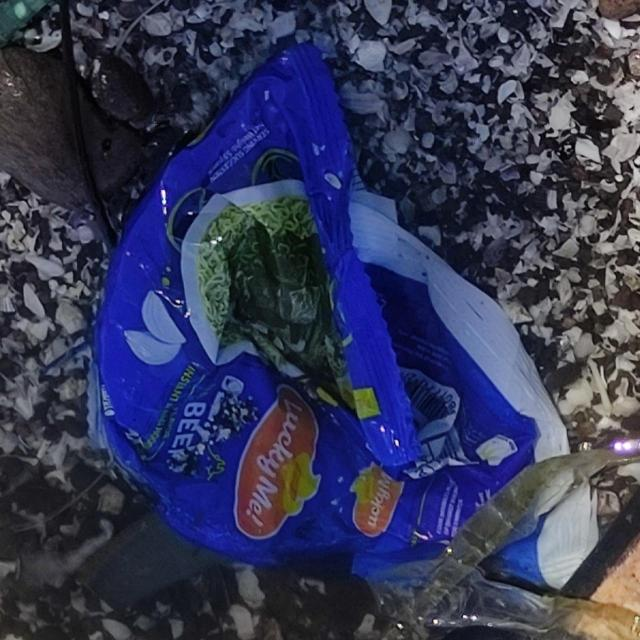plastic_waste: (84, 33, 610, 618)
